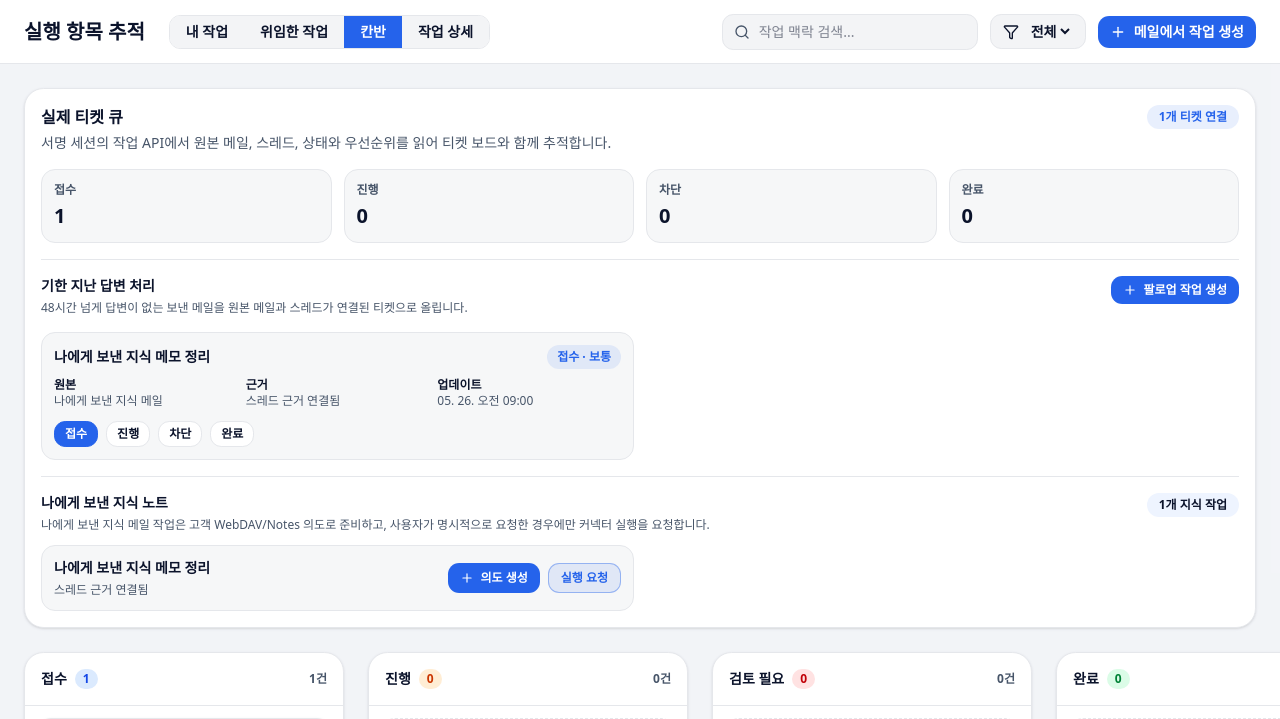
Test: TasksPage › creates self-sent knowledge WebDAV materialization intent with signed headers
The width and height of the screenshot is (1280, 719).
What coordinates should you click on to do the following:
click the button with aria-label "나에게 보낸 지식 메모 정리 WebDAV 지식 노트 의도 생성"
I would click on:
 (494, 578)
Its box is 448,563 -> 540,593.
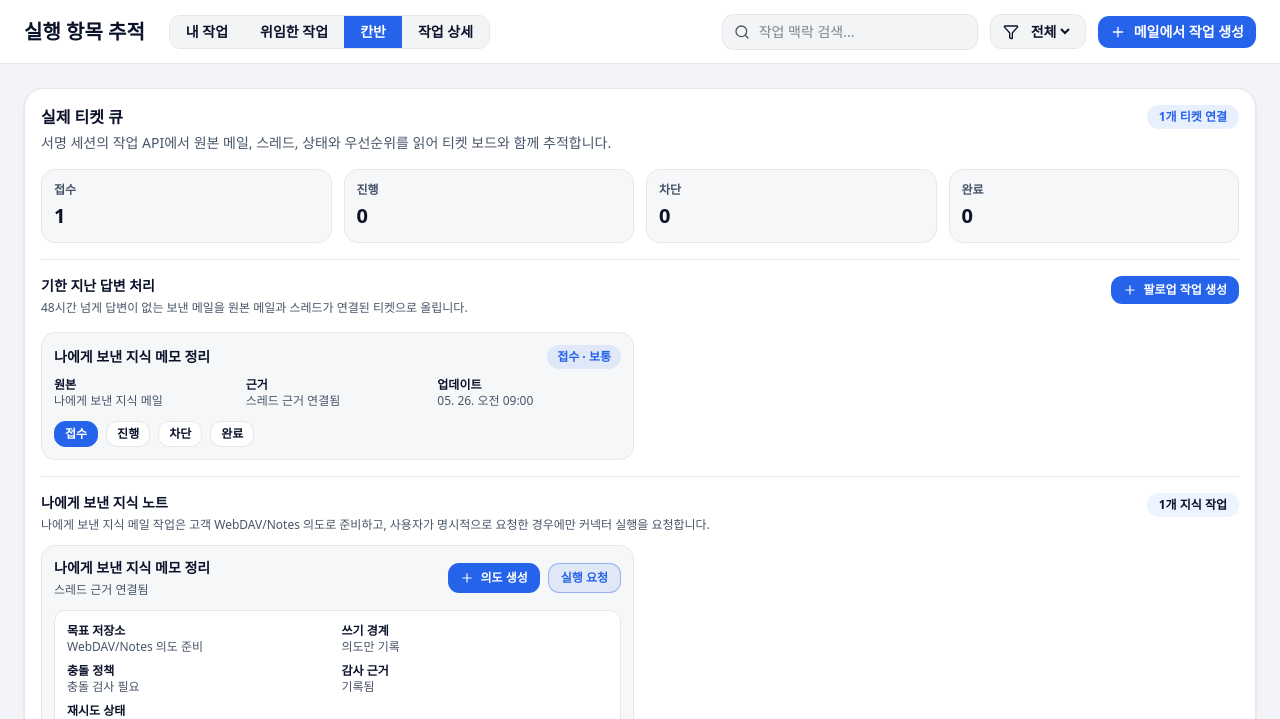
Check: the text "WebDAV/Notes 의도 준비" is shown, box 67,638 -> 203,655
Check: the text "의도만 기록" is shown, box 342,638 -> 400,655
Check: the text "충돌 검사 필요" is shown, box 67,678 -> 140,695
